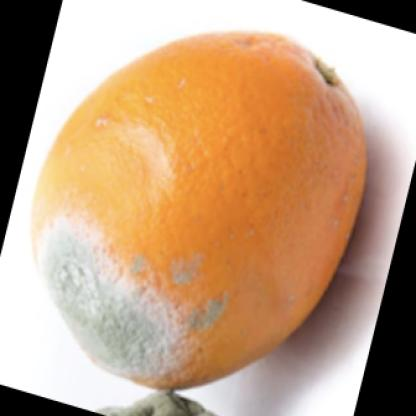rotten: (30, 32, 369, 394)
